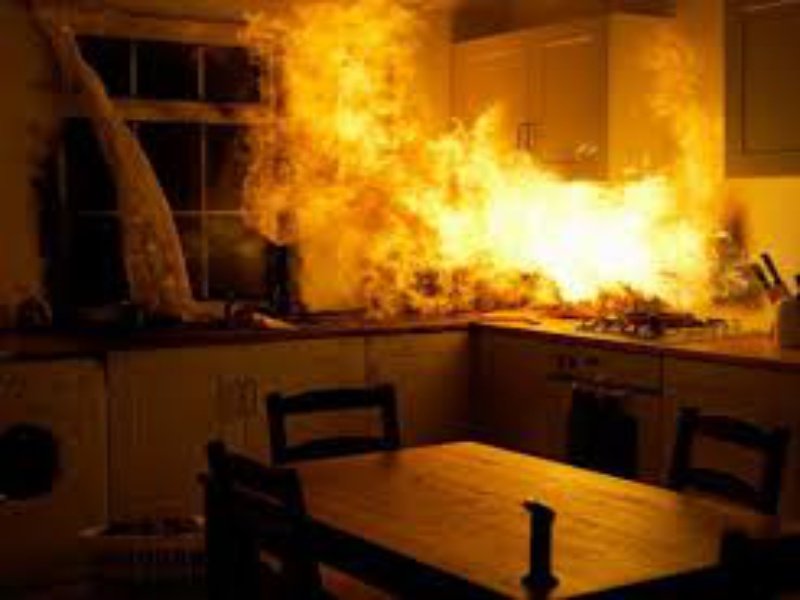fire: (382, 140, 741, 309)
